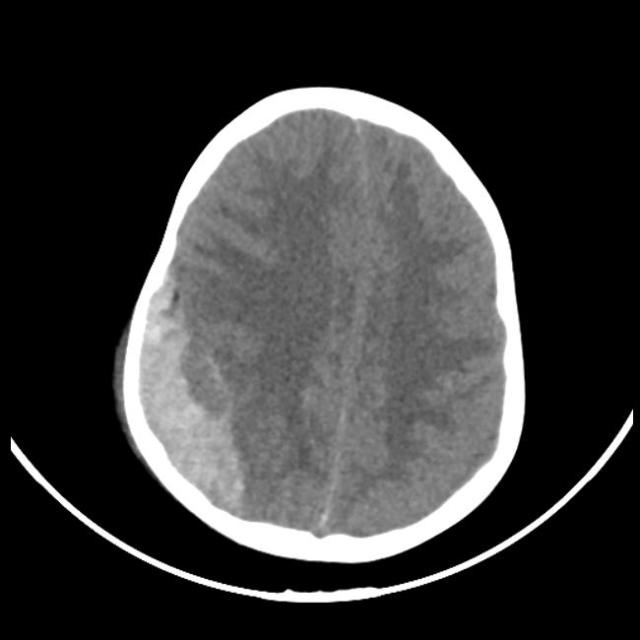lesion: (115, 90, 527, 548)
